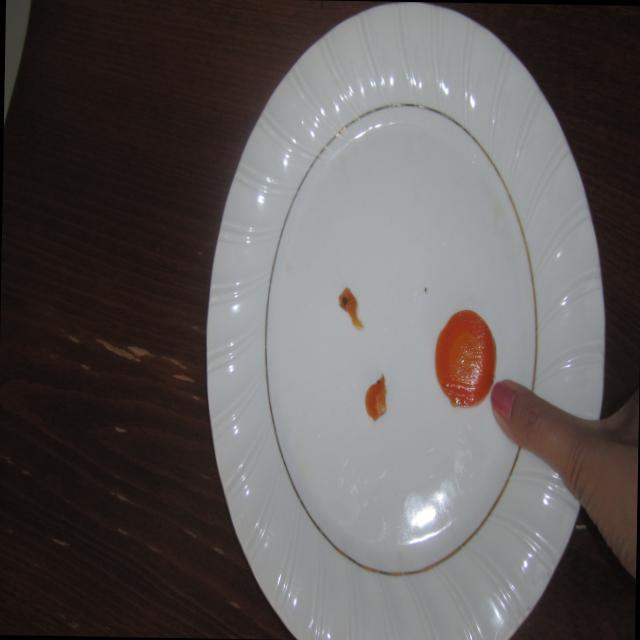Carrot: (428, 302, 499, 418)
Finger: (486, 374, 558, 464)
